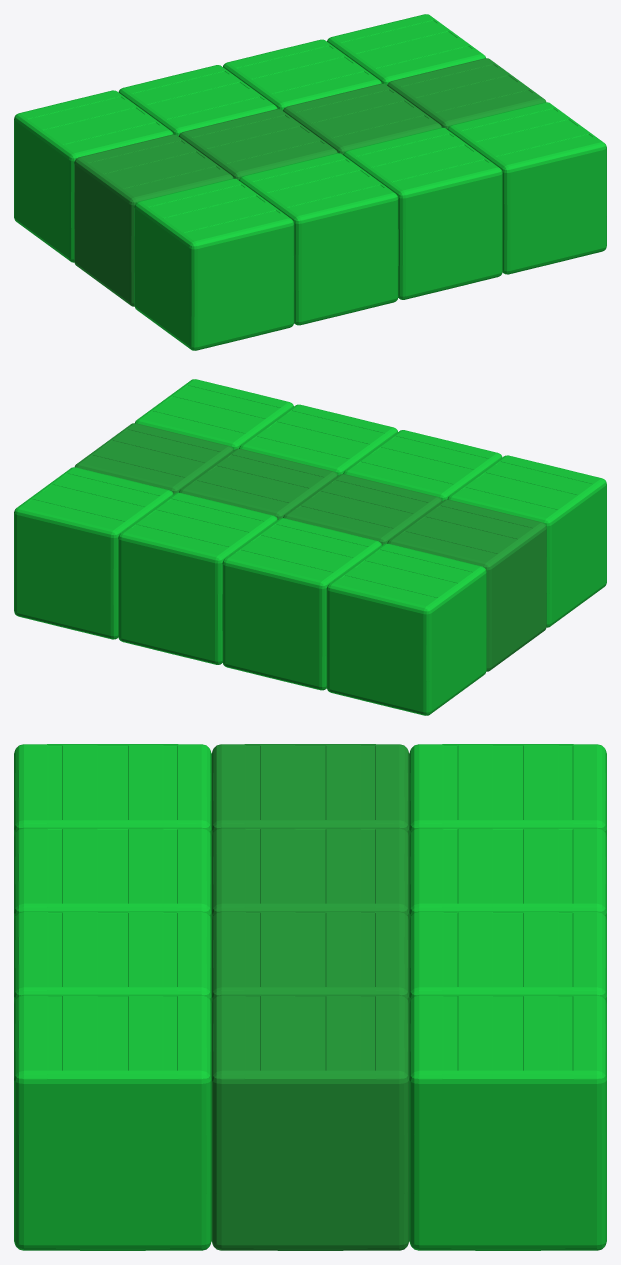
The picture shows the model from 3 angles, top to bottom: view 1: azimuth 30°, elevation 25°; view 2: azimuth 150°, elevation 25°; view 3: azimuth 270°, elevation 25°; orthographic projection. The views are drawn at different scales.
Parts seen in each view (by area): view 1: Cube.005, Cube.004, Cube.003; view 2: Cube.003, Cube.004, Cube.005; view 3: Cube.004, Cube.003, Cube.005.
Boxes of the visible parts, bbox=[...] form: Cube.005: bbox=[134, 102, 606, 350]; Cube.004: bbox=[74, 58, 546, 306]; Cube.003: bbox=[14, 14, 485, 262]; Cube.003: bbox=[14, 467, 486, 715]; Cube.004: bbox=[74, 423, 546, 671]; Cube.005: bbox=[135, 379, 606, 627]; Cube.004: bbox=[211, 744, 409, 1250]; Cube.003: bbox=[409, 744, 606, 1250]; Cube.005: bbox=[14, 744, 211, 1250].
Bounding box in the file's own units: 1600 × 400 × 1200.
